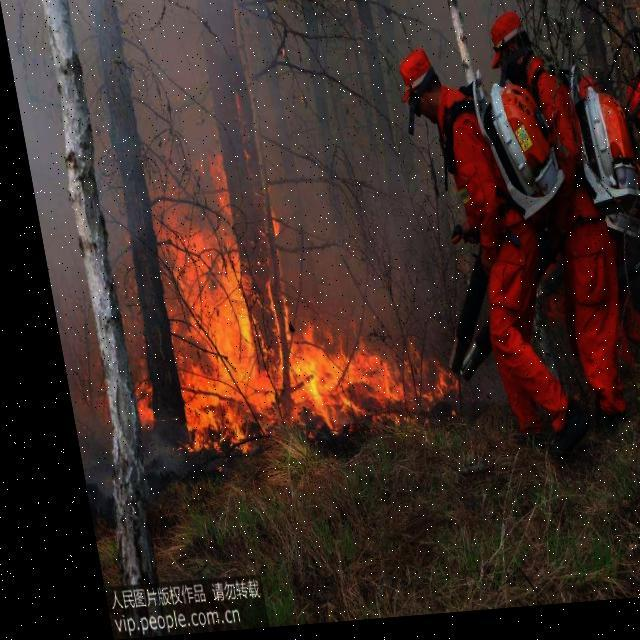Fire: (132, 143, 452, 460)
